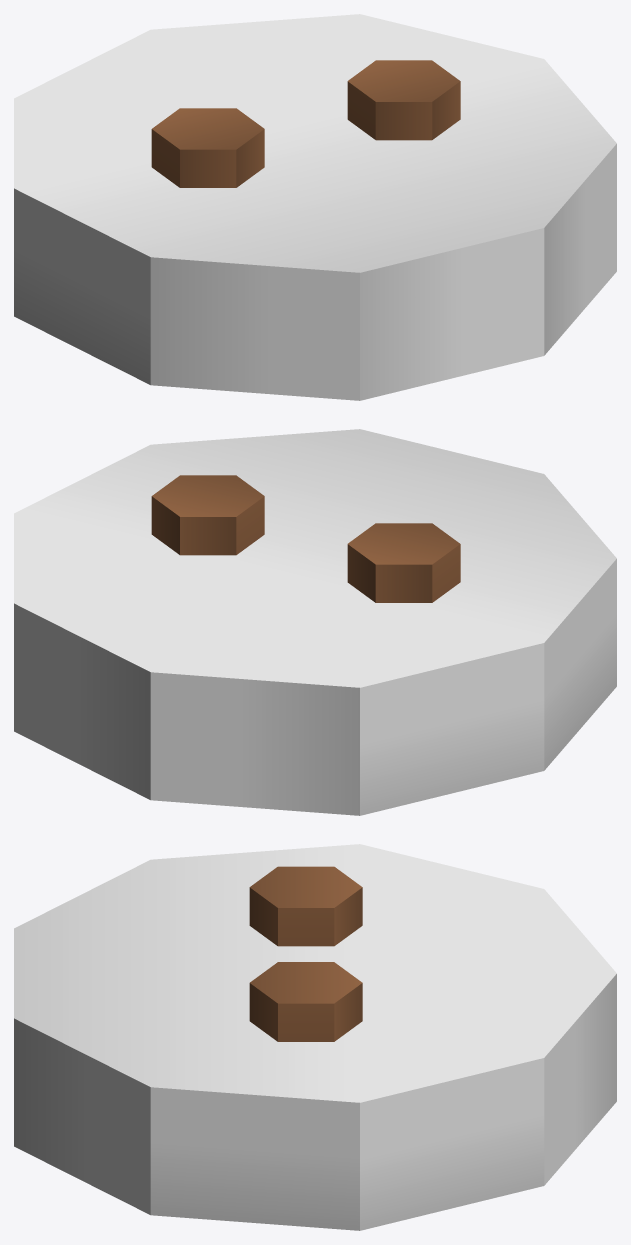
File: button.fbx
3 renders of one model, top to bottom at view 1: azimuth 30°, elevation 25°; view 2: azimuth 150°, elevation 25°; view 3: azimuth 270°, elevation 25°, orthographic.
Visible parts, largest first — view 1: button; view 2: button; view 3: button.
Part boxes in pixels (left/top/right/bottom): button: left=14, top=14, right=616, bottom=400; button: left=14, top=429, right=616, bottom=815; button: left=14, top=844, right=616, bottom=1230.
Size of the model in its own units: 40 by 12 by 39.39.
